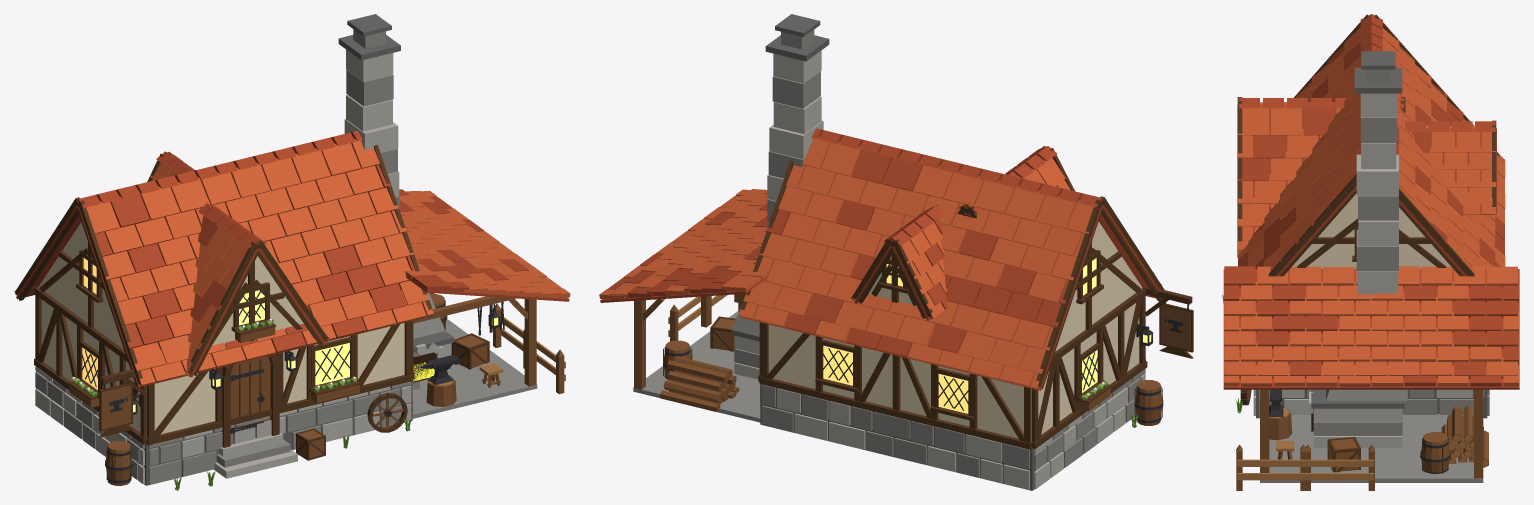
Rendered from BlacksmithHouse.fbx.
3 views of the same model, side by side, from view 1: azimuth 30°, elevation 25°; view 2: azimuth 150°, elevation 25°; view 3: azimuth 270°, elevation 25° (orthographic). The views are drawn at different scales.
Visible parts, largest first — view 1: BlacksmithHouse_LOD0, BlacksmithHouse_Door; view 2: BlacksmithHouse_LOD0; view 3: BlacksmithHouse_LOD0.
Boxes of the visible parts, box(x1,y1,x2,y2) form: BlacksmithHouse_LOD0: box(14, 14, 570, 490); BlacksmithHouse_Door: box(230, 356, 270, 443); BlacksmithHouse_LOD0: box(599, 14, 1193, 490); BlacksmithHouse_LOD0: box(1222, 14, 1519, 490).
Size of what is drawn, in the model's own units: 12.15 by 8.96 by 6.53.
